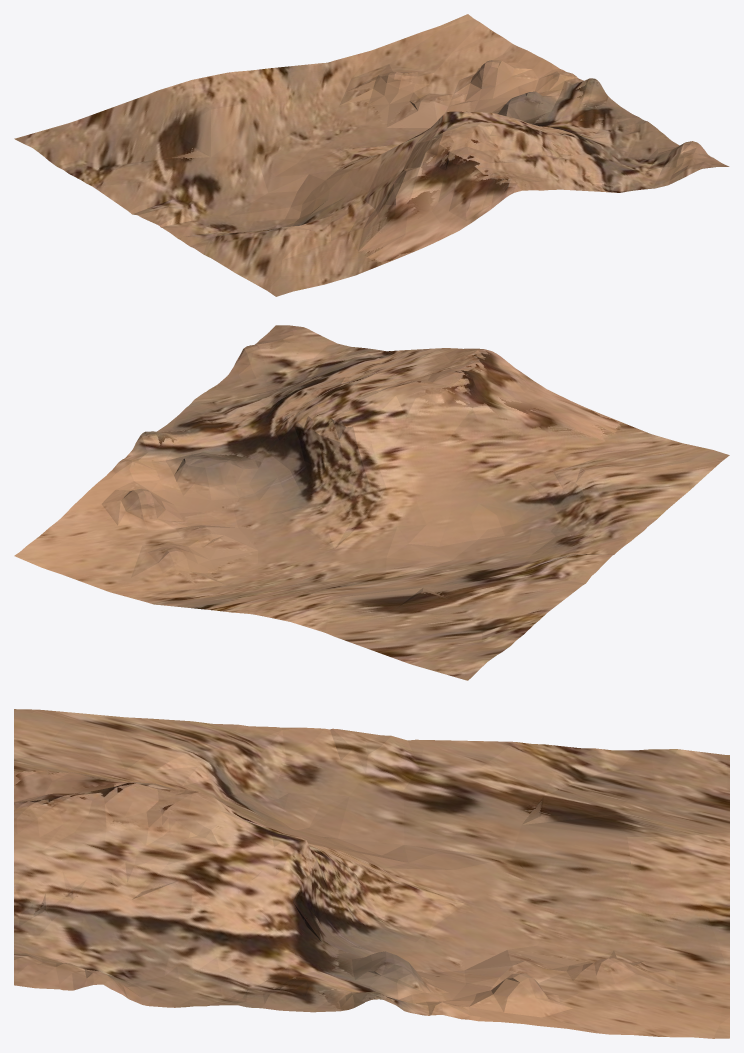
3 renders of one model, top to bottom at view 1: azimuth 30°, elevation 25°; view 2: azimuth 150°, elevation 25°; view 3: azimuth 270°, elevation 25°, orthographic. The views are drawn at different scales.
Bounding box in the file's own units: 1.04 × 0.2063 × 1.04.
Materials: 2 (2 with a texture image).
